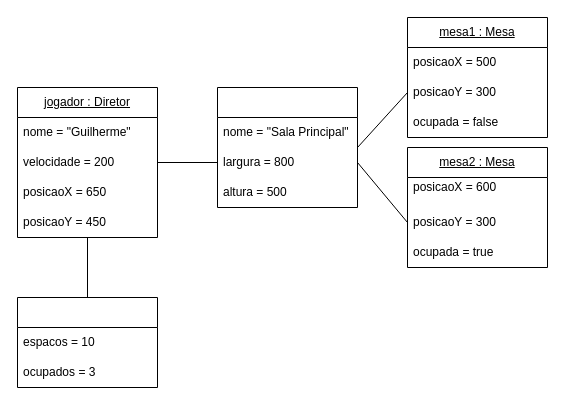
This 565x405 diagram has some shape labels left out. Each missing label, with the box of its shape:
mochila : Inventario: (16, 296, 158, 388)
sala1 : Sala: (216, 86, 358, 208)
